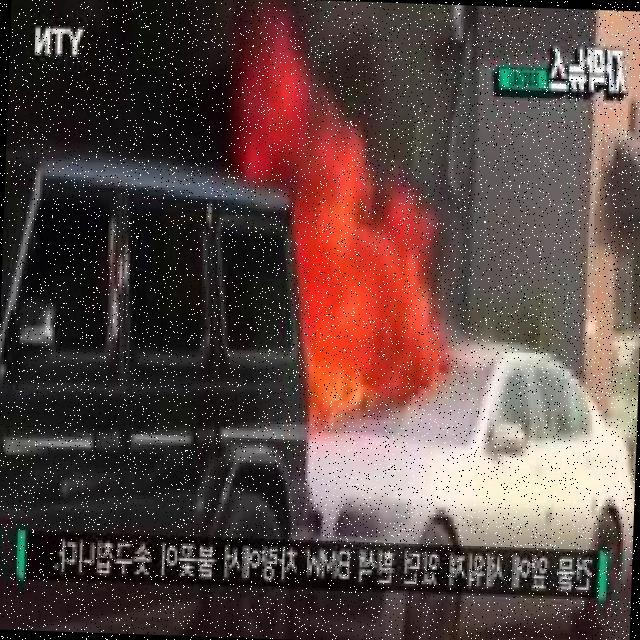Fire: (233, 92, 427, 426)
